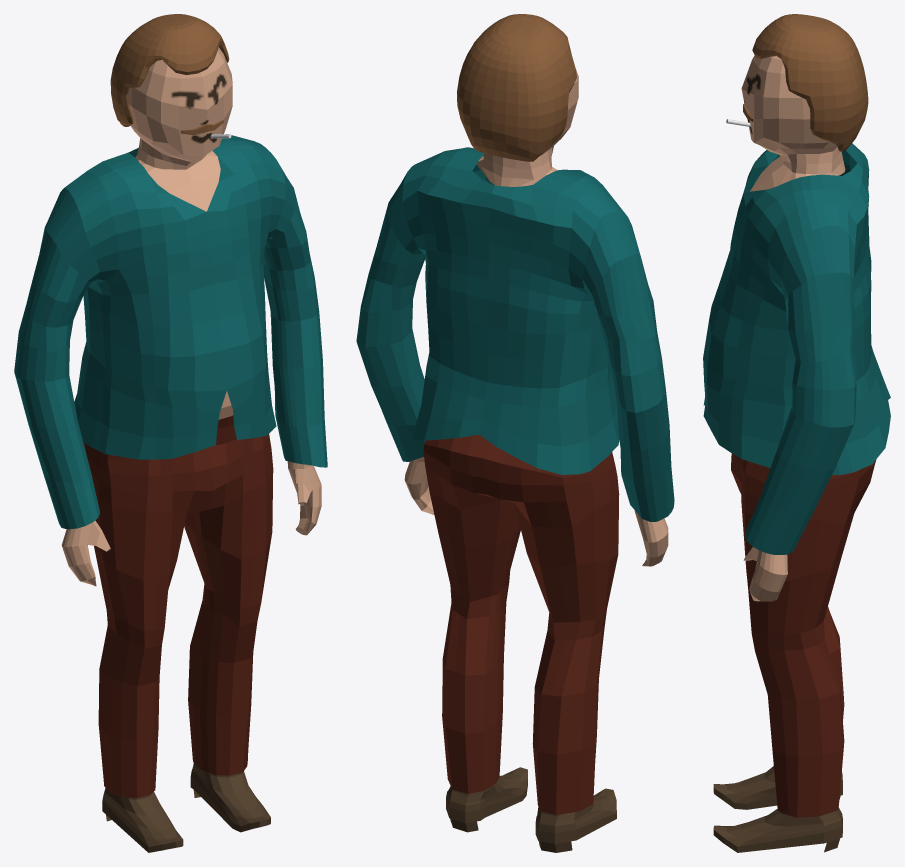
File: PNJ.glb
3 renders of one model, left to right at view 1: azimuth 30°, elevation 25°; view 2: azimuth 150°, elevation 25°; view 3: azimuth 270°, elevation 25°, orthographic.
Visible parts, largest first — view 1: PNJ_CHEMISE, PNJ, PNJ_VISAGE, PNJ_CHEVEUX, PNJ_SANTIAG_GAUCHE, PNJ_SANTIAG_DROITE, PNJ_MAIN_DROITE, PNJ_MAIN_GAUCHE; view 2: PNJ_CHEMISE, PNJ, PNJ_CHEVEUX, PNJ_SANTIAG_DROITE, PNJ_SANTIAG_GAUCHE, PNJ_VISAGE, PNJ_MAIN_DROITE, PNJ_MAIN_GAUCHE; view 3: PNJ_CHEMISE, PNJ, PNJ_CHEVEUX, PNJ_VISAGE, PNJ_SANTIAG_GAUCHE, PNJ_SANTIAG_DROITE, PNJ_MAIN_GAUCHE.
Boxes of the visible parts, x1,y1,x2,y2 form: PNJ_CHEMISE: (14, 135, 327, 529); PNJ: (83, 415, 273, 798); PNJ_VISAGE: (128, 47, 232, 211); PNJ_CHEVEUX: (110, 14, 229, 126); PNJ_SANTIAG_GAUCHE: (190, 763, 270, 832); PNJ_SANTIAG_DROITE: (102, 788, 183, 852); PNJ_MAIN_DROITE: (61, 520, 110, 586); PNJ_MAIN_GAUCHE: (287, 461, 321, 535); PNJ_CHEMISE: (356, 147, 674, 521); PNJ: (423, 434, 619, 814); PNJ_CHEVEUX: (457, 14, 576, 161); PNJ_SANTIAG_DROITE: (535, 788, 616, 852); PNJ_SANTIAG_GAUCHE: (446, 767, 527, 832); PNJ_VISAGE: (476, 69, 578, 186); PNJ_MAIN_DROITE: (634, 510, 668, 566); PNJ_MAIN_GAUCHE: (404, 457, 434, 515); PNJ_CHEMISE: (703, 143, 890, 554); PNJ: (731, 453, 876, 817); PNJ_CHEVEUX: (752, 14, 868, 151); PNJ_VISAGE: (741, 55, 845, 191); PNJ_SANTIAG_GAUCHE: (713, 807, 842, 852); PNJ_SANTIAG_DROITE: (713, 766, 842, 809); PNJ_MAIN_GAUCHE: (743, 547, 787, 601).
Size of the model in its own units: 0.7202 by 1.86 by 0.3935.
4 materials, 2 textured.
